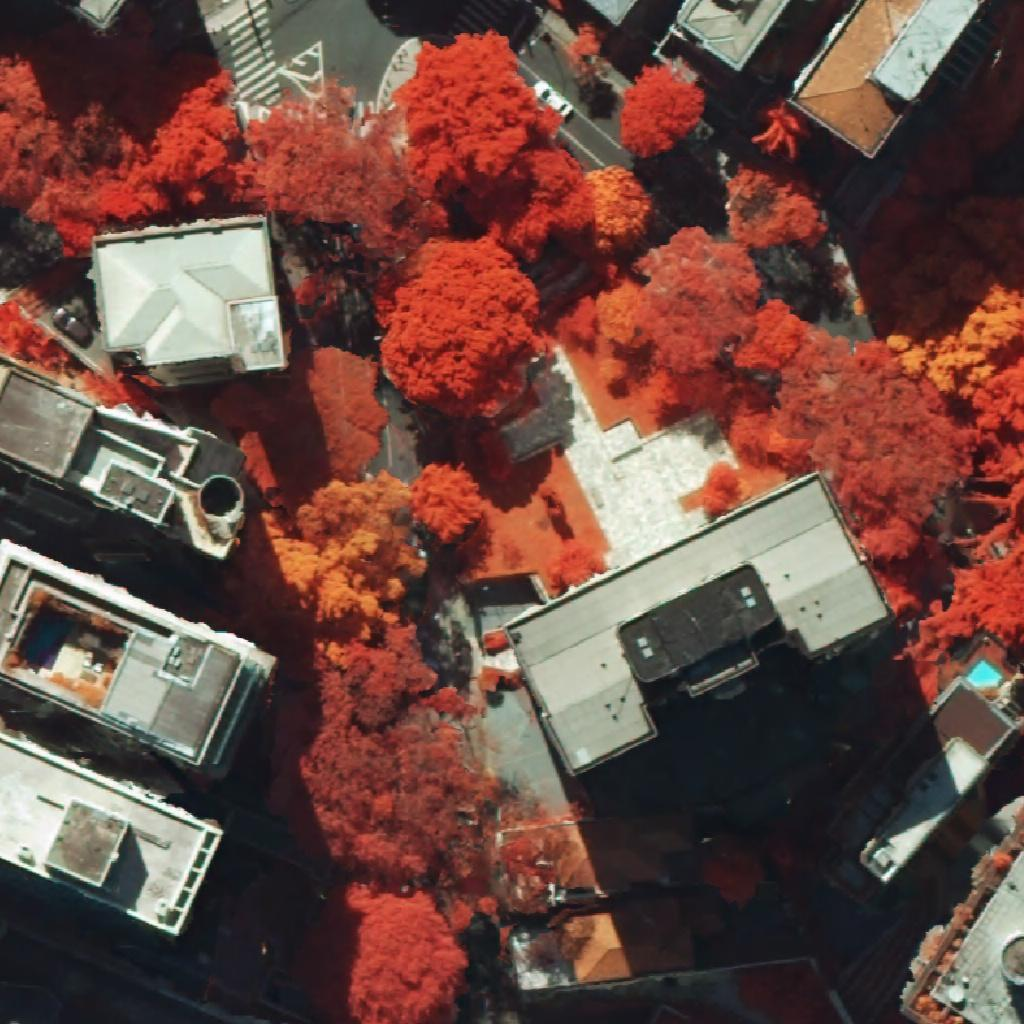pool: (966, 658, 1005, 687)
